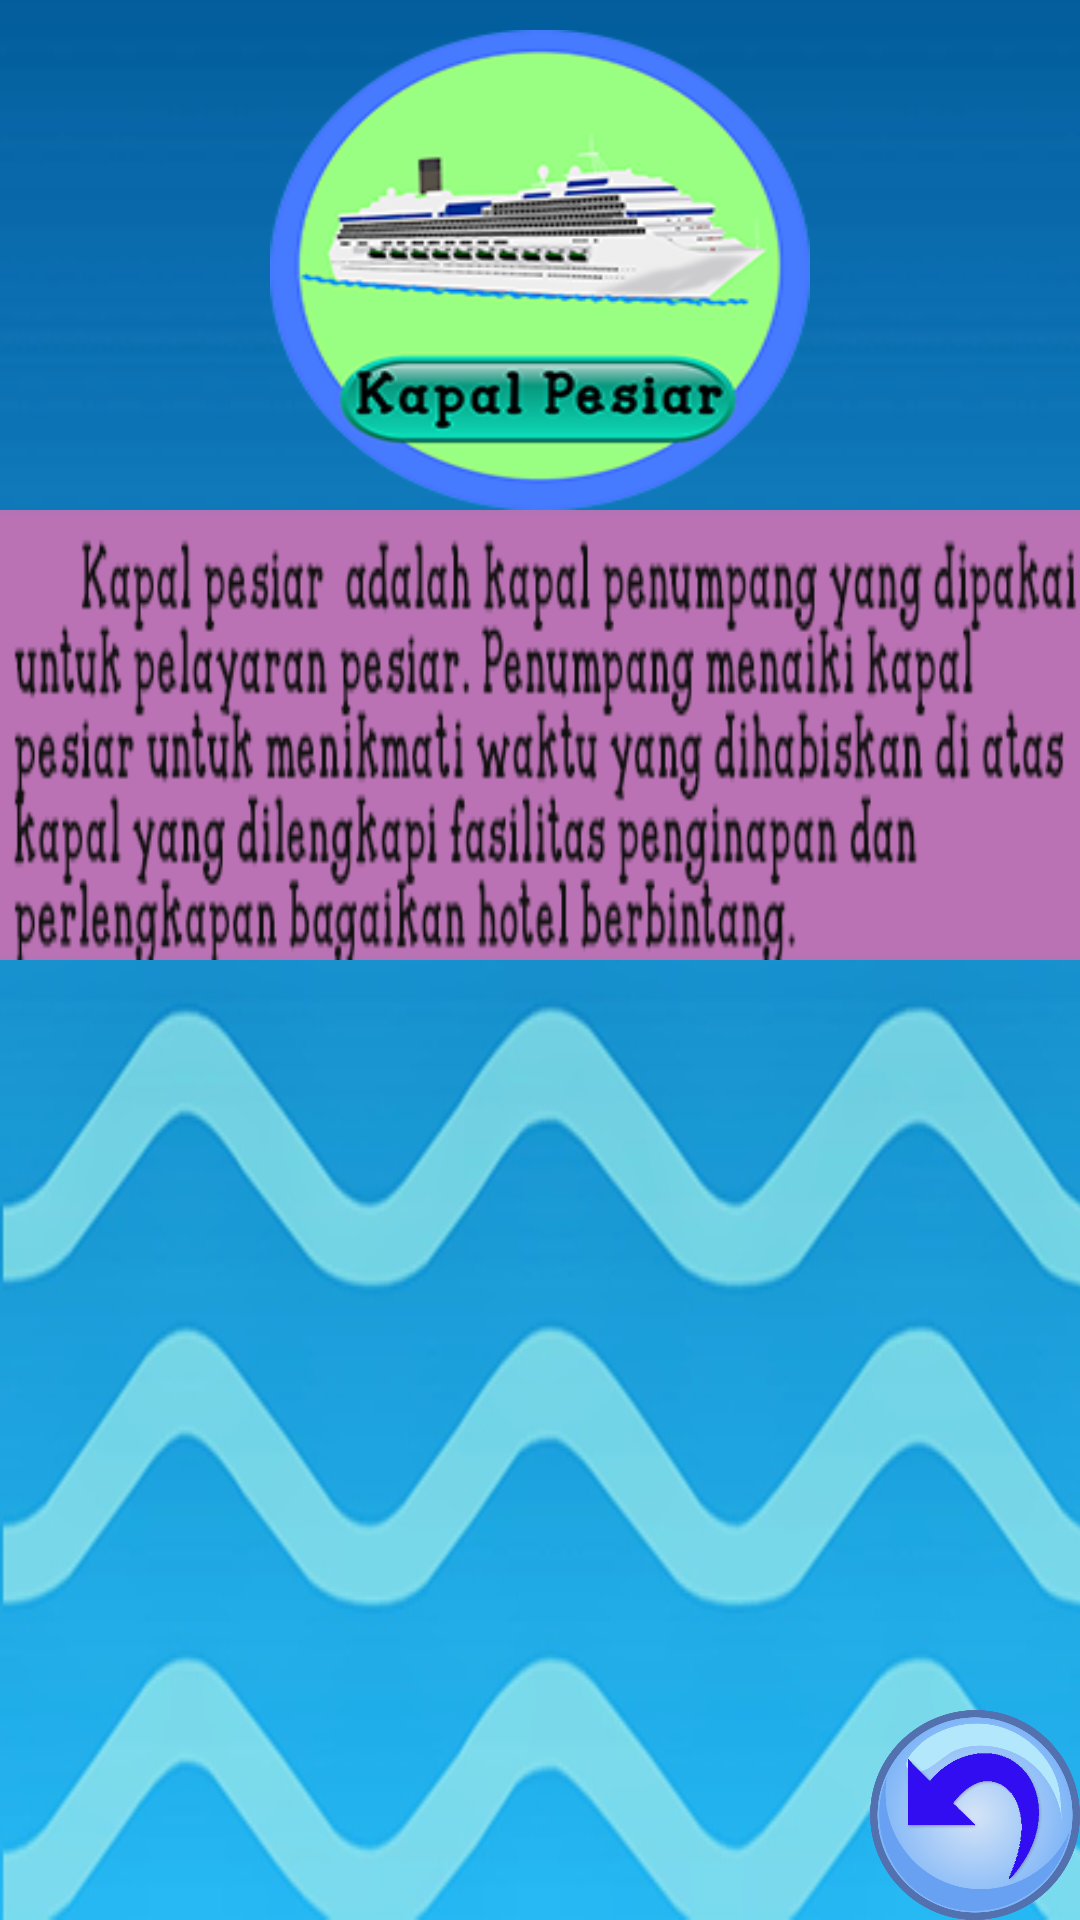

Icons on this 1080 × 1920 Android screen, each with the point to tap as (x,y):
back: (975,1815)
